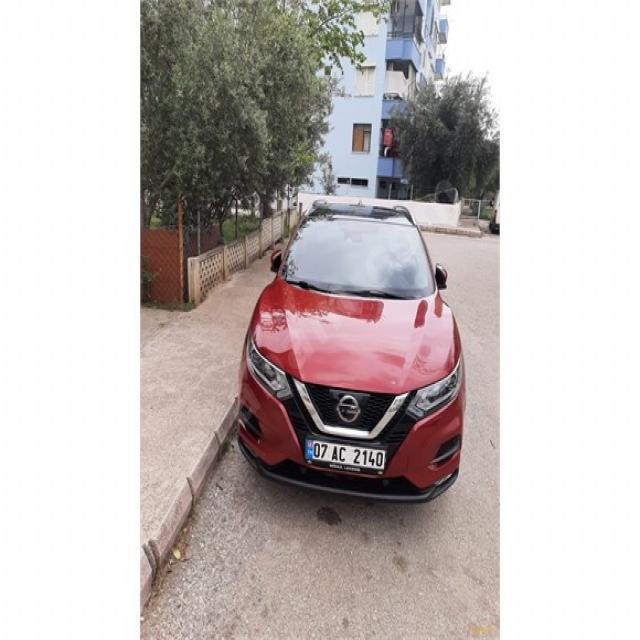plate: (302, 434, 391, 481)
